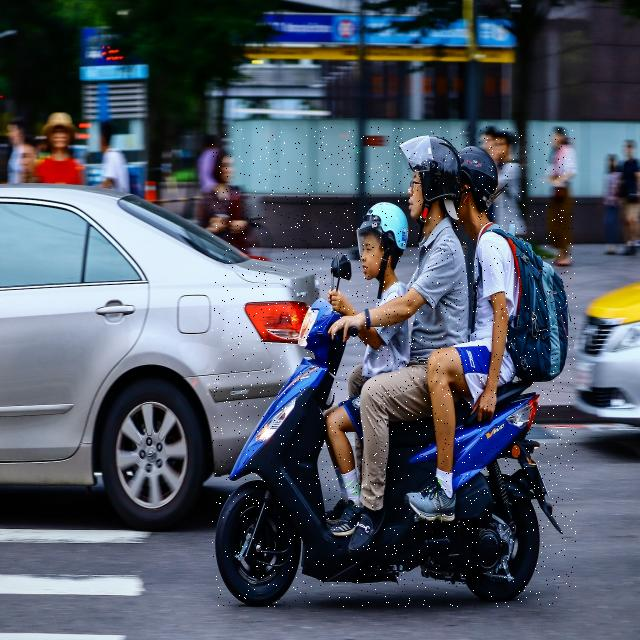With Helmet: (212, 127, 577, 607)
